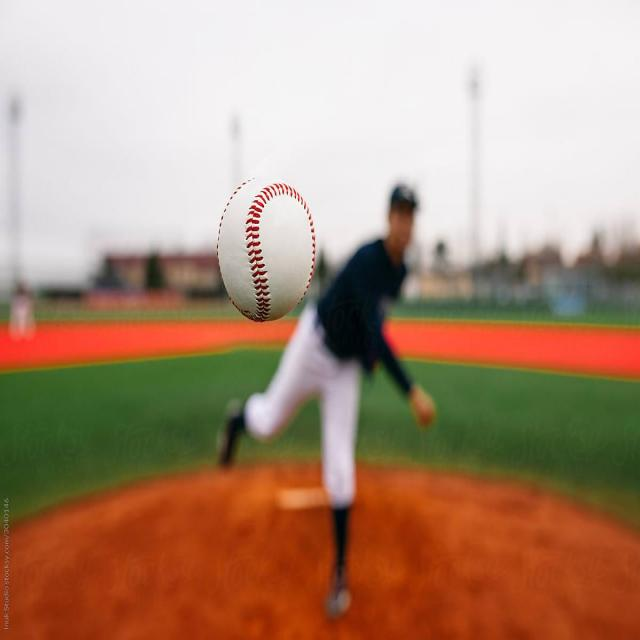baseball: (217, 175, 315, 322)
